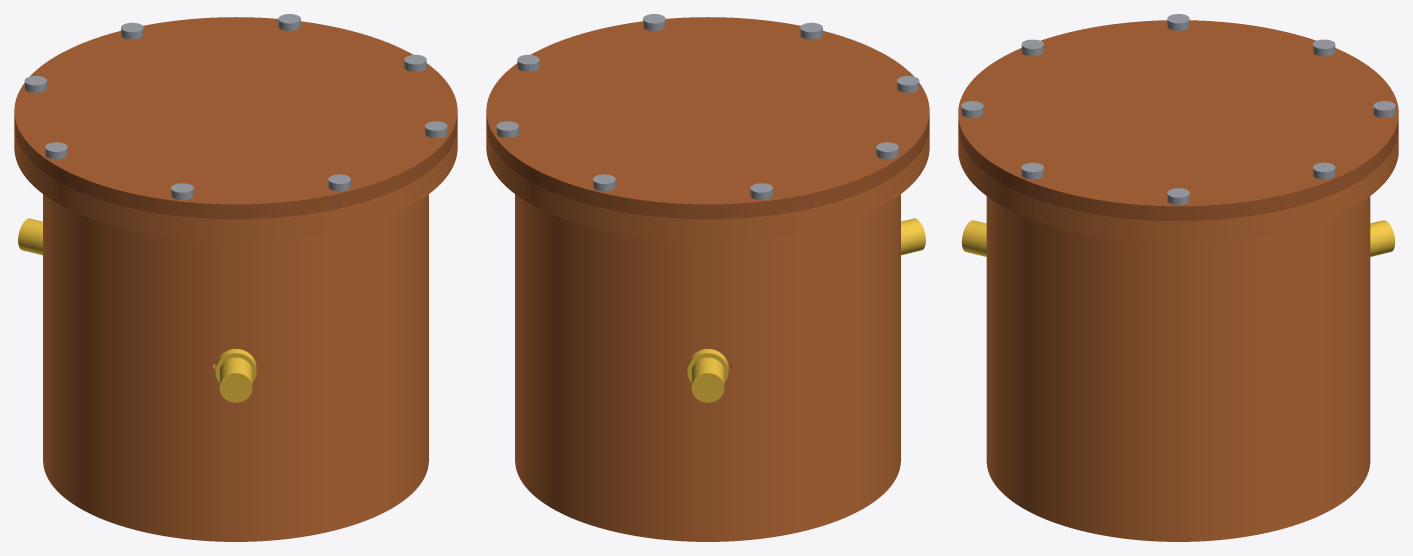
Rendered from LGR-A_full.glb.
The picture shows the model from 3 angles, left to right: view 1: azimuth 30°, elevation 25°; view 2: azimuth 150°, elevation 25°; view 3: azimuth 270°, elevation 25°; orthographic projection.
Visible parts, largest first — view 1: Copper can (T2), Copper lid (T2), M3 bolts x8, SMA bulkhead jack B, SMA bulkhead jack A; view 2: Copper can (T2), Copper lid (T2), M3 bolts x8, SMA bulkhead jack A, SMA bulkhead jack B; view 3: Copper can (T2), Copper lid (T2), M3 bolts x8, SMA bulkhead jack A, SMA bulkhead jack B.
Part boxes in pixels (bbox=[...]): Copper can (T2): bbox=[14, 129, 457, 541]; Copper lid (T2): bbox=[14, 17, 457, 219]; M3 bolts x8: bbox=[24, 14, 447, 200]; SMA bulkhead jack B: bbox=[219, 357, 252, 402]; SMA bulkhead jack A: bbox=[18, 218, 42, 255]; Copper can (T2): bbox=[486, 129, 929, 541]; Copper lid (T2): bbox=[486, 17, 929, 219]; M3 bolts x8: bbox=[496, 14, 919, 200]; SMA bulkhead jack A: bbox=[691, 357, 724, 402]; SMA bulkhead jack B: bbox=[901, 218, 925, 255]; Copper can (T2): bbox=[958, 133, 1398, 541]; Copper lid (T2): bbox=[958, 20, 1398, 220]; M3 bolts x8: bbox=[961, 14, 1395, 204]; SMA bulkhead jack A: bbox=[1370, 220, 1395, 256]; SMA bulkhead jack B: bbox=[961, 220, 986, 256].
Size of the model in its own units: 108 by 96.03 by 108.
